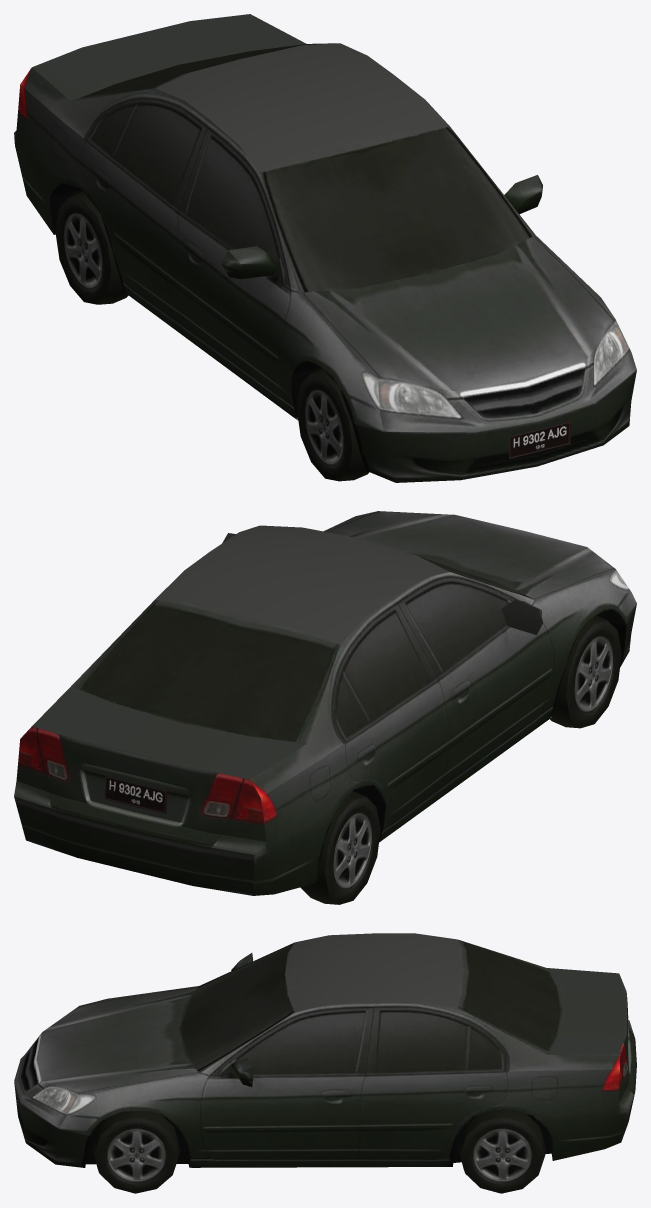
File: car-sedan.glb
The picture shows the model from 3 angles, top to bottom: view 1: azimuth 30°, elevation 25°; view 2: azimuth 150°, elevation 25°; view 3: azimuth 270°, elevation 25°; orthographic projection. The views are drawn at different scales.
Parts seen in each view (by area): view 1: body.cvc_Material.004_0, WHEEL__cvcwheel001__cvc_wheel.001_Material.004_0, WHEEL__cvcwheel__cvc_wheel_Material.004_0; view 2: body.cvc_Material.004_0, WHEEL__cvcwheel001__cvc_wheel.001_Material.004_0, WHEEL__cvcwheel__cvc_wheel_Material.004_0; view 3: body.cvc_Material.004_0, WHEEL__cvcwheel002__cvc_wheel.002_Material.004_0, WHEEL__cvcwheel003__cvc_wheel.003_Material.004_0.
Boxes of the visible parts, x1,y1,x2,y2 form: body.cvc_Material.004_0: (14,14,636,482); WHEEL__cvcwheel001__cvc_wheel.001_Material.004_0: (55,191,128,304); WHEEL__cvcwheel__cvc_wheel_Material.004_0: (296,368,369,481); body.cvc_Material.004_0: (14,511,636,895); WHEEL__cvcwheel001__cvc_wheel.001_Material.004_0: (300,791,380,904); WHEEL__cvcwheel__cvc_wheel_Material.004_0: (550,615,621,728); body.cvc_Material.004_0: (14,933,636,1167); WHEEL__cvcwheel002__cvc_wheel.002_Material.004_0: (458,1109,546,1193); WHEEL__cvcwheel003__cvc_wheel.003_Material.004_0: (92,1111,180,1193).
Bounding box in the file's own units: 2 × 1.42 × 4.41.
1 material, 1 textured.
